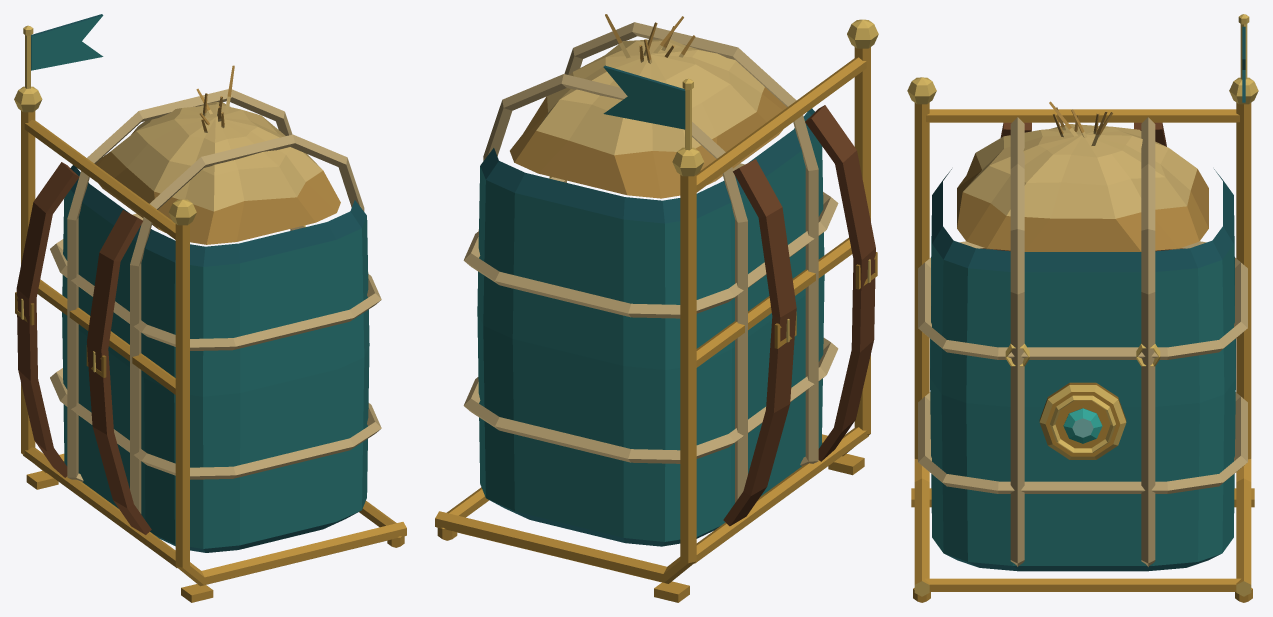
File: backpack_giant.glb
3 renders of one model, left to right at view 1: azimuth 30°, elevation 25°; view 2: azimuth 150°, elevation 25°; view 3: azimuth 270°, elevation 25°, orthographic. The views are drawn at different scales.
Visible parts, largest first — view 1: backpack_giant; view 2: backpack_giant; view 3: backpack_giant.
Boxes of the visible parts, box(x1,y1,x2,y2) form: backpack_giant: box(14, 14, 406, 602); backpack_giant: box(435, 14, 878, 602); backpack_giant: box(907, 14, 1258, 602).
Bounding box in the file's own units: 0.7788 × 1.22 × 0.808.
